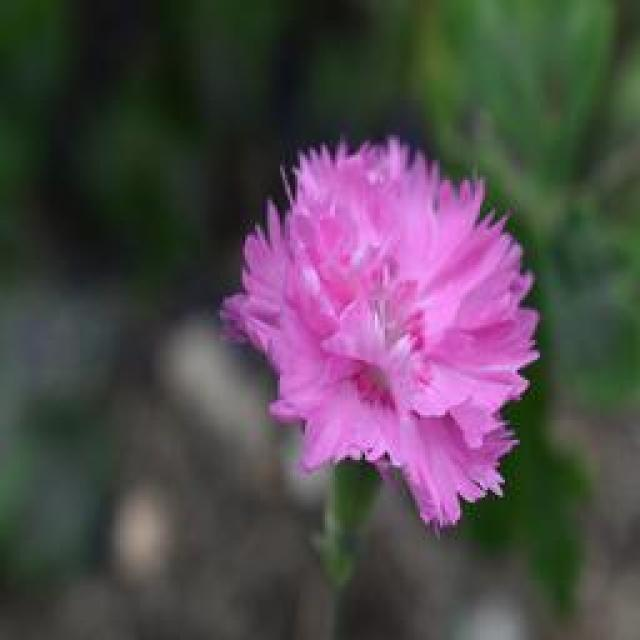carnation: (227, 113, 560, 525)
